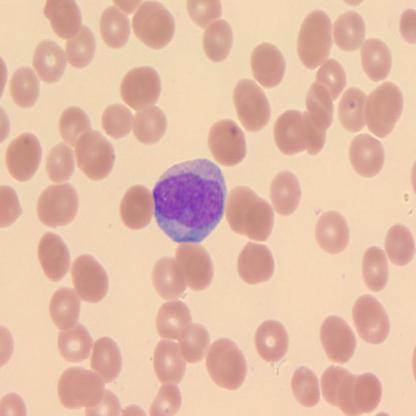Promyelocyte: (152, 154, 226, 242)
